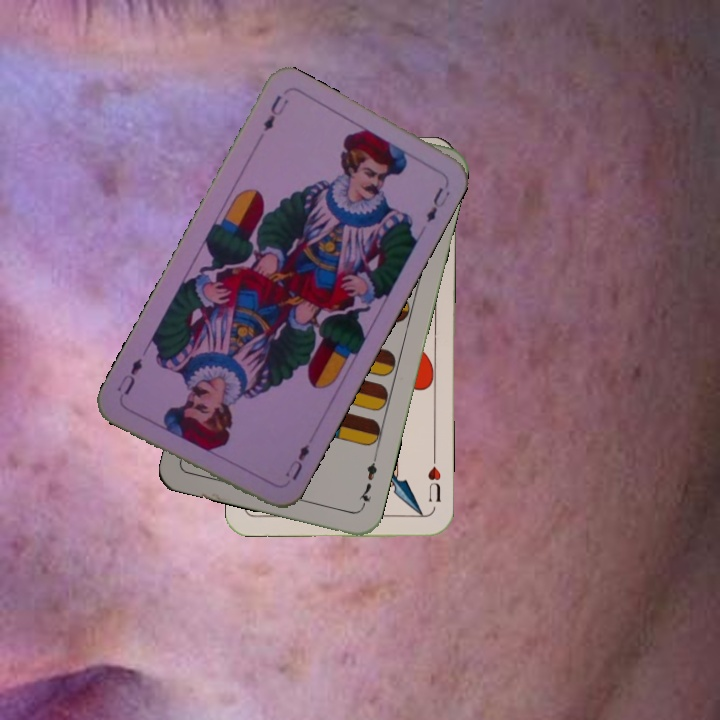E7: (354, 453, 380, 511)
EU: (259, 91, 291, 134), (281, 440, 312, 483)
HU: (423, 462, 444, 504)
